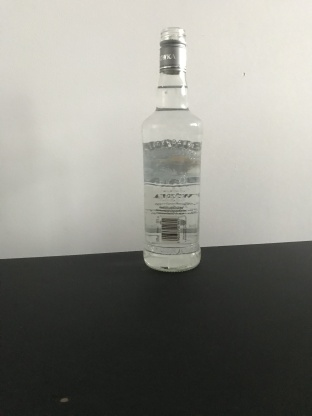nakretka: (157, 26, 188, 74)
